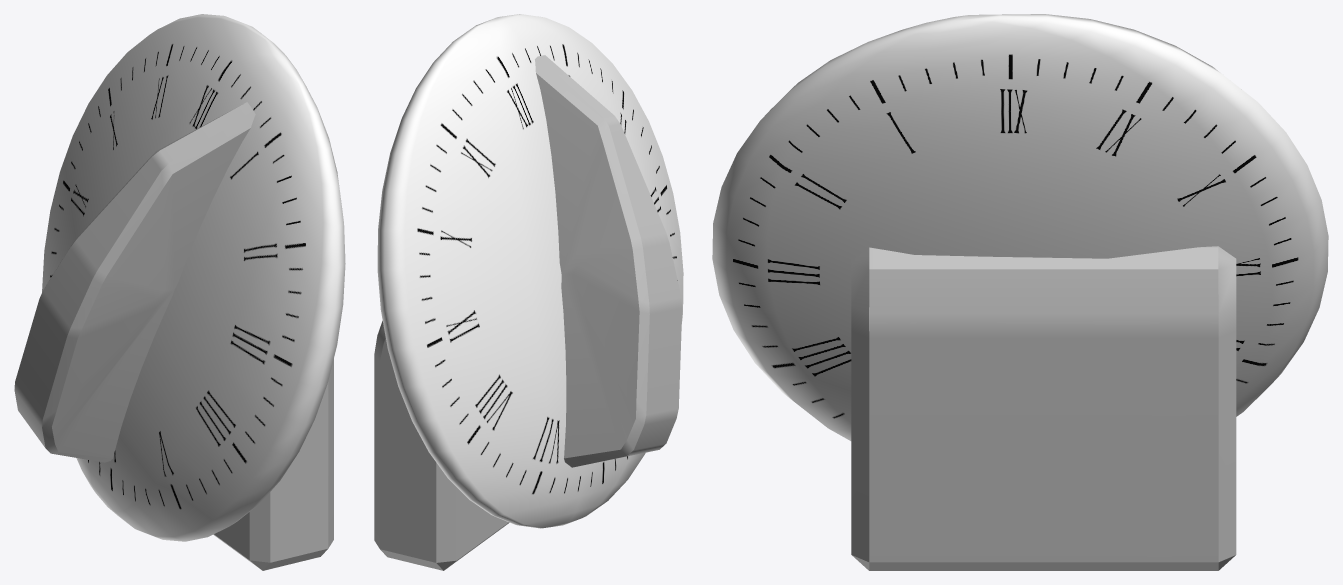
The model's file is fixedandUV_clocktimer.fbx.
The picture shows the model from 3 angles, left to right: view 1: azimuth 30°, elevation 25°; view 2: azimuth 150°, elevation 25°; view 3: azimuth 270°, elevation 25°; orthographic projection. The views are drawn at different scales.
Visible parts, largest first — view 1: pSphere2, pCylinder1, pCube1; view 2: pSphere2, pCylinder1, pCube1; view 3: pSphere2, pCube1.
Boxes of the visible parts, x1,y1,x2,y2 form: pSphere2: (42, 14, 345, 541); pCylinder1: (14, 102, 255, 462); pCube1: (213, 359, 333, 570); pSphere2: (377, 14, 683, 528); pCylinder1: (535, 55, 682, 467); pCube1: (374, 321, 509, 570); pSphere2: (712, 14, 1328, 440); pCube1: (851, 246, 1236, 570).
Size of the model in its own units: 30.07 by 59.02 by 59.26.
